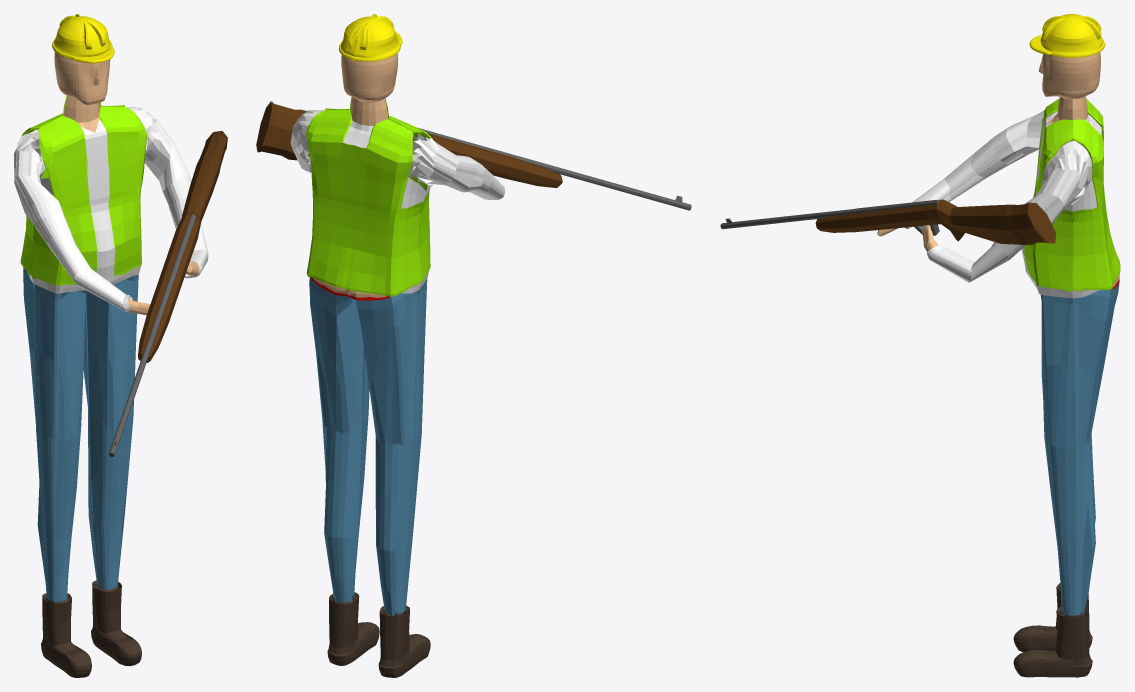
File: gunman.FBX
3 renders of one model, left to right at view 1: azimuth 30°, elevation 25°; view 2: azimuth 150°, elevation 25°; view 3: azimuth 270°, elevation 25°, orthographic. The views are drawn at different scales.
Parts seen in each view (by area): view 1: man, Box003, Object001, Object002; view 2: man, Box003, Object001, Object002; view 3: man, Box003, Object002, Object001.
Part boxes in pixels (x1=…): man: x1=20, y1=14, x2=146, y2=677; Box003: x1=109, y1=131, x2=227, y2=456; Object001: x1=14, y1=129, x2=150, y2=315; Object002: x1=125, y1=107, x2=208, y2=278; man: x1=306, y1=14, x2=431, y2=677; Box003: x1=256, y1=101, x2=691, y2=210; Object001: x1=408, y1=133, x2=504, y2=199; Object002: x1=290, y1=110, x2=324, y2=173; man: x1=1013, y1=14, x2=1120, y2=677; Box003: x1=720, y1=199, x2=1056, y2=244; Object002: x1=922, y1=141, x2=1092, y2=282; Object001: x1=877, y1=110, x2=1073, y2=236.
Bounding box in the file's own units: 34.01 × 76.34 × 42.9.
